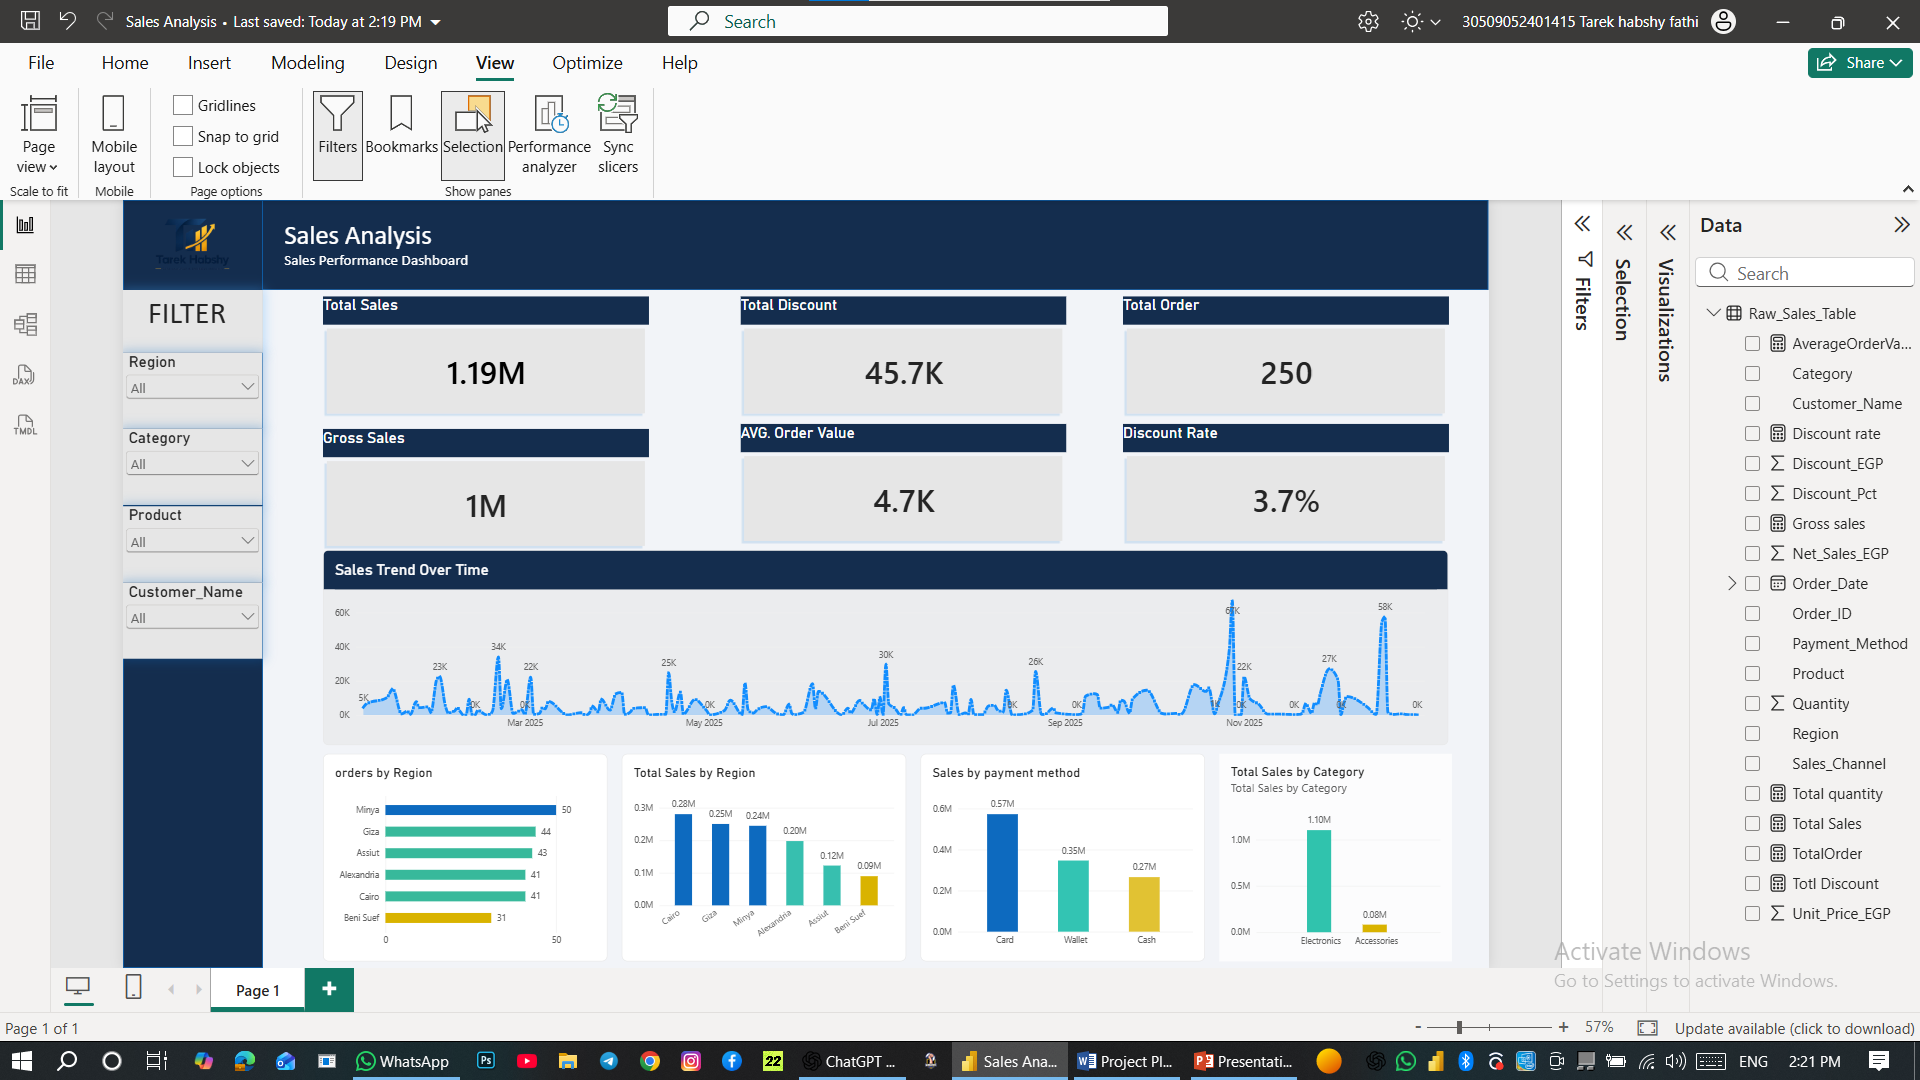

The page's visual inventory and layout, read from the dashboard file:
{"tool":"powerbi","page":{"name":"Page 1","canvas":[1920,1080],"ordinal":0},"visuals":[{"type":"cardVisual","title":"Total Sales","fields":{"Data":["Raw_Sales_Table.Total Sales"]},"box":[282,136,458,170],"z":0},{"type":"columnChart","title":"Total Sales by Region","fields":{"Category":["Raw_Sales_Table.Region"],"Y":["Raw_Sales_Table.Total Sales"]},"box":[701.1,778.3,400,292],"z":1000},{"type":"clusteredColumnChart","title":" Sales by payment method","fields":{"Category":["Raw_Sales_Table.Payment_Method"],"Y":["Raw_Sales_Table.Total Sales"]},"box":[1120.9,778.3,400,292],"z":4000},{"type":"barChart","title":" orders by Region","fields":{"Category":["Raw_Sales_Table.Region"],"Y":["Raw_Sales_Table.TotalOrder"]},"box":[281.2,778.3,400,292],"z":5000},{"type":"shape","box":[0,0,1920,126.7],"z":6000},{"type":"shape","box":[0,0,196.7,1080],"z":7000},{"type":"image","box":[30,0,135,126.7],"z":8000},{"type":"textbox","box":[226.7,26.7,428.3,126.7],"z":9000},{"type":"textbox","box":[0,126.7,196.7,88.3],"z":10000},{"type":"cardVisual","title":"Total Discount","fields":{"Data":["Raw_Sales_Table.Totl Discount"]},"box":[868,136,458,170],"z":11000},{"type":"cardVisual","title":"Total Order","fields":{"Data":["Raw_Sales_Table.TotalOrder"]},"box":[1406,136,458,170],"z":12000},{"type":"cardVisual","title":"Gross Sales","fields":{"Data":["Raw_Sales_Table.Gross sales"]},"box":[282,322,458,170],"z":13000},{"type":"cardVisual","title":"AVG. Order Value","fields":{"Data":["Raw_Sales_Table.AverageOrderValue"]},"box":[868,314,458,170],"z":14000},{"type":"cardVisual","title":"Discount Rate","fields":{"Data":["Raw_Sales_Table.Discount rate"]},"box":[1406,314,458,170],"z":15000},{"type":"slicer","fields":{"Values":["Raw_Sales_Table.Region"]},"box":[0,214,196,107],"z":16000},{"type":"slicer","fields":{"Values":["Raw_Sales_Table.Category"]},"box":[0,322,196,107],"z":17000},{"type":"slicer","fields":{"Values":["Raw_Sales_Table.Product"]},"box":[0,430,196,107],"z":18000},{"type":"lineChart","title":"Sales Trend Over Time","fields":{"Category":["Raw_Sales_Table.Order_Date"],"Y":["Raw_Sales_Table.Total Sales"]},"box":[282,492,1582,274],"z":18500},{"type":"slicer","fields":{"Values":["Raw_Sales_Table.Customer_Name"]},"box":[0,538,196,107],"z":19000},{"type":"columnChart","title":"Total Sales by Category","fields":{"Category":["Raw_Sales_Table.Category"],"Y":["Raw_Sales_Table.Total Sales"]},"box":[1540.8,778.3,327.2,292],"z":19500}]}

Visuals, with their boxes on the page's 1920x1080 design canvas (x1, y1, x2, y2). These are canvas units, not pixel positions in the 1920x1080 screenshot, which may show the page scaled, cropped or inside an application window:
"Total Sales" cardVisual: box=[282, 136, 740, 306]
"Total Sales by Region" columnChart: box=[701, 778, 1101, 1070]
" Sales by payment method" clusteredColumnChart: box=[1121, 778, 1521, 1070]
" orders by Region" barChart: box=[281, 778, 681, 1070]
shape: box=[0, 0, 1920, 127]
shape: box=[0, 0, 197, 1080]
image: box=[30, 0, 165, 127]
textbox: box=[227, 27, 655, 153]
textbox: box=[0, 127, 197, 215]
"Total Discount" cardVisual: box=[868, 136, 1326, 306]
"Total Order" cardVisual: box=[1406, 136, 1864, 306]
"Gross Sales" cardVisual: box=[282, 322, 740, 492]
"AVG. Order Value" cardVisual: box=[868, 314, 1326, 484]
"Discount Rate" cardVisual: box=[1406, 314, 1864, 484]
slicer - Raw_Sales_Table.Region: box=[0, 214, 196, 321]
slicer - Raw_Sales_Table.Category: box=[0, 322, 196, 429]
slicer - Raw_Sales_Table.Product: box=[0, 430, 196, 537]
"Sales Trend Over Time" lineChart: box=[282, 492, 1864, 766]
slicer - Raw_Sales_Table.Customer_Name: box=[0, 538, 196, 645]
"Total Sales by Category" columnChart: box=[1541, 778, 1868, 1070]
